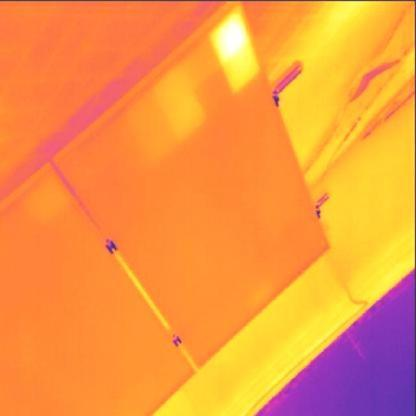anomaly: (211, 8, 266, 96), (146, 72, 210, 147)
